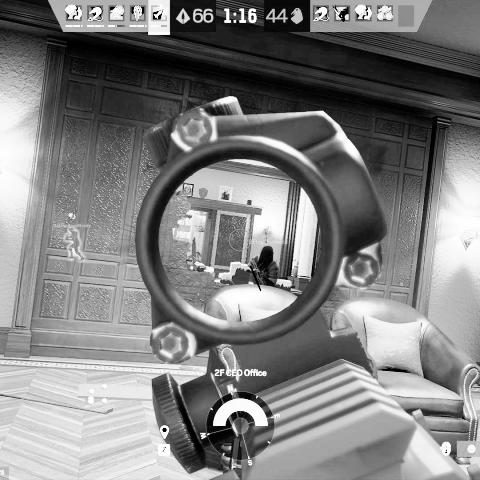Character: (245, 245, 281, 289)
Friend_label: (250, 222, 285, 246), (53, 211, 91, 230)
Head: (260, 246, 274, 265)
